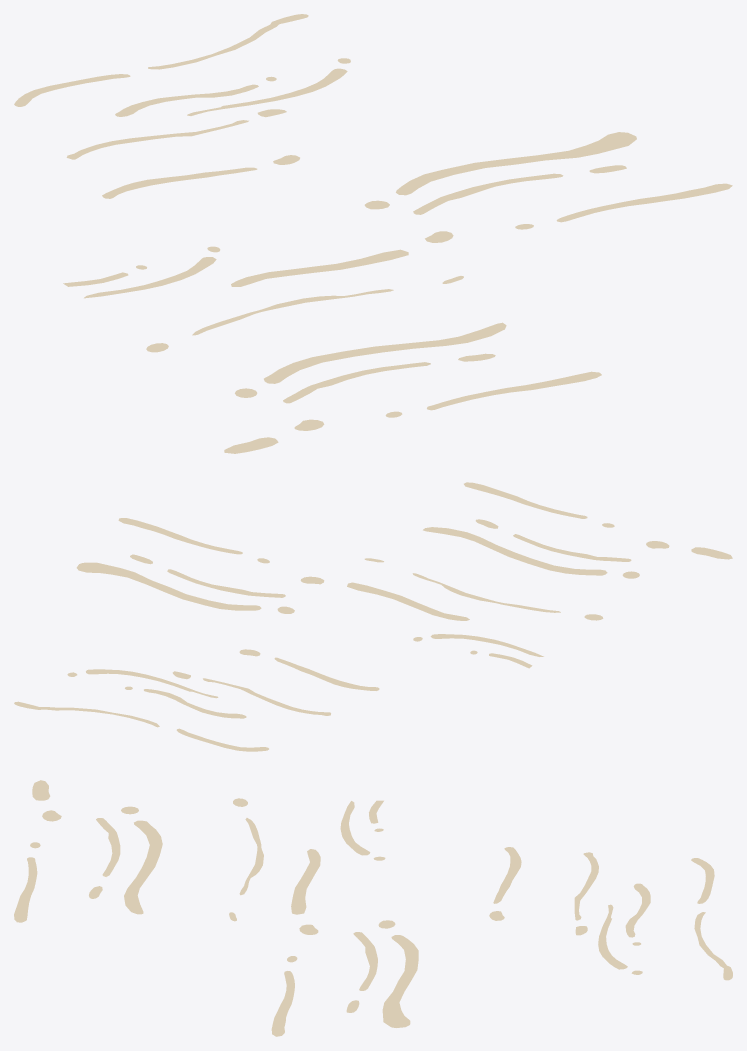
File: Mesh_Adventure_Sand_Variant_Ground_07.fbx
The picture shows the model from 3 angles, top to bottom: view 1: azimuth 30°, elevation 25°; view 2: azimuth 150°, elevation 25°; view 3: azimuth 270°, elevation 25°; orthographic projection. The views are drawn at different scales.
Parts seen in each view (by area): view 1: Mesh_Adventure_Sand_Variant_Ground_07; view 2: Mesh_Adventure_Sand_Variant_Ground_07; view 3: Mesh_Adventure_Sand_Variant_Ground_07.
Part boxes in pixels (x1=…): Mesh_Adventure_Sand_Variant_Ground_07: x1=14, y1=14, x2=732, y2=453; Mesh_Adventure_Sand_Variant_Ground_07: x1=14, y1=482, x2=732, y2=751; Mesh_Adventure_Sand_Variant_Ground_07: x1=14, y1=780, x2=732, y2=1036.
Size of the model in its own units: 186 by 0.2449 by 220.
Materials: 1 (1 with a texture image).
